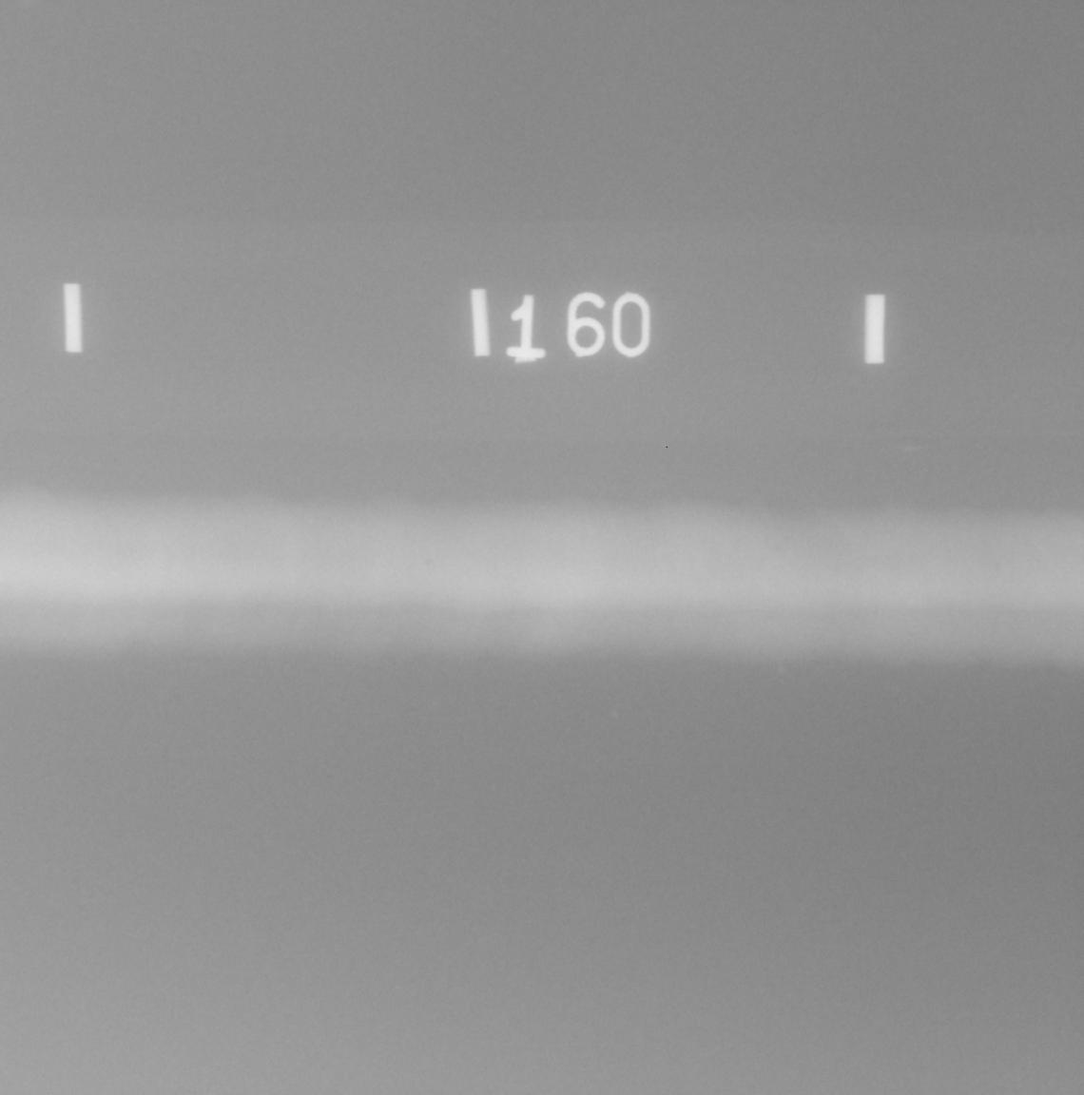Pore/Porosity: (424, 556, 434, 565), (994, 562, 1002, 569)
